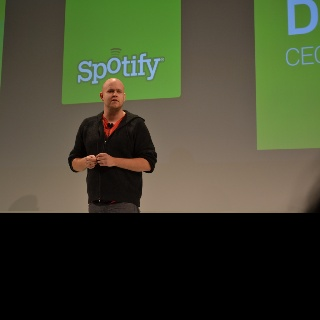without_mask: (102, 81, 123, 110)
